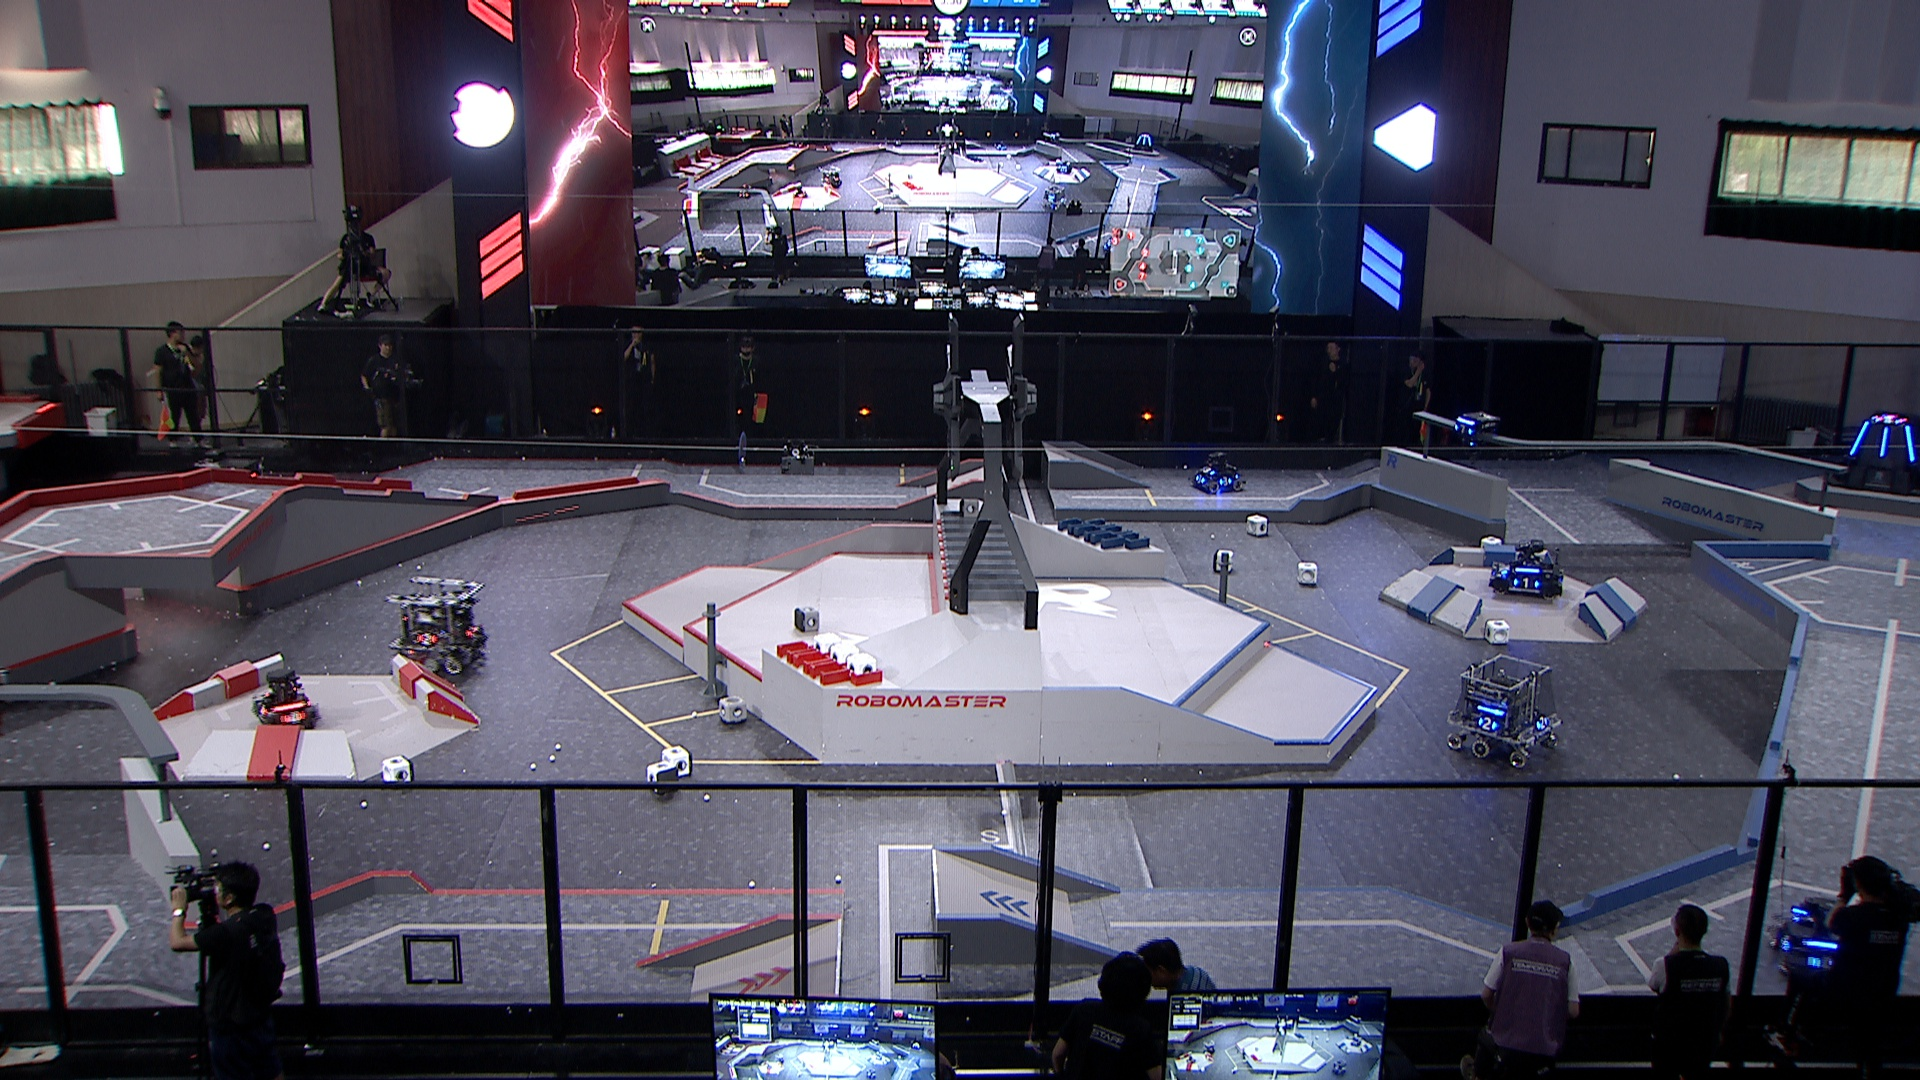armor: (1846, 418, 1870, 456), (1803, 953, 1833, 973), (1903, 425, 1917, 463), (1774, 927, 1792, 953), (277, 709, 306, 725), (1513, 576, 1542, 589), (1476, 717, 1499, 732), (415, 632, 438, 646), (1878, 427, 1888, 458), (1452, 423, 1476, 436), (465, 622, 480, 640), (1495, 560, 1513, 575), (255, 702, 269, 716), (1534, 717, 1549, 731), (1192, 473, 1207, 487), (1201, 465, 1218, 476), (1220, 476, 1233, 489)
base: (1830, 413, 1920, 496)
car: (1447, 651, 1563, 771), (381, 574, 491, 678), (1764, 893, 1874, 986), (191, 442, 272, 520), (1487, 537, 1565, 605), (249, 669, 316, 732), (1185, 450, 1247, 496)
ignore: (1043, 185, 1069, 208), (1875, 414, 1902, 427)
watcher: (1449, 407, 1505, 462)
